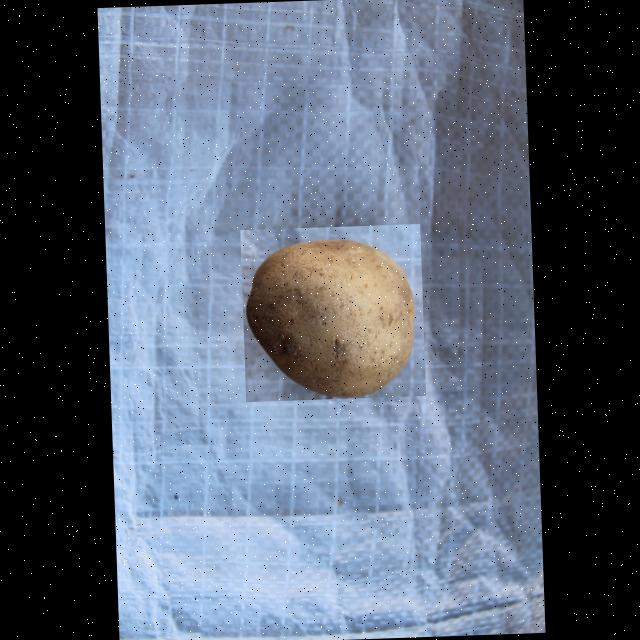Diseased-fungal potato: (238, 224, 424, 402)
